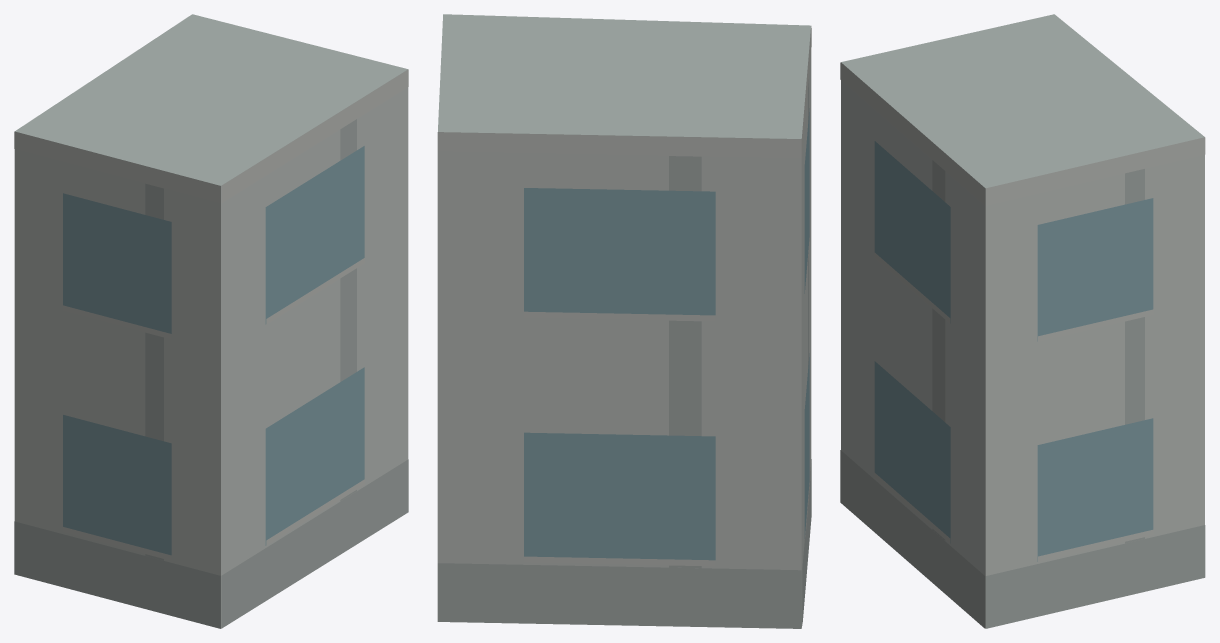
File: survey-upis-33005595.glb
3 views of the same model, side by side, from view 1: azimuth 30°, elevation 25°; view 2: azimuth 150°, elevation 25°; view 3: azimuth 270°, elevation 25° (orthographic). The views are drawn at different scales.
Parts seen in each view (by area): view 1: survey-upis-33005595.tmp; view 2: survey-upis-33005595.tmp; view 3: survey-upis-33005595.tmp.
Part boxes in pixels (x1,y1,x2,y2): survey-upis-33005595.tmp: (14, 14, 408, 628); survey-upis-33005595.tmp: (437, 14, 811, 628); survey-upis-33005595.tmp: (840, 14, 1205, 628).
Bounding box in the file's own units: 5.19 × 6.1 × 4.58.
